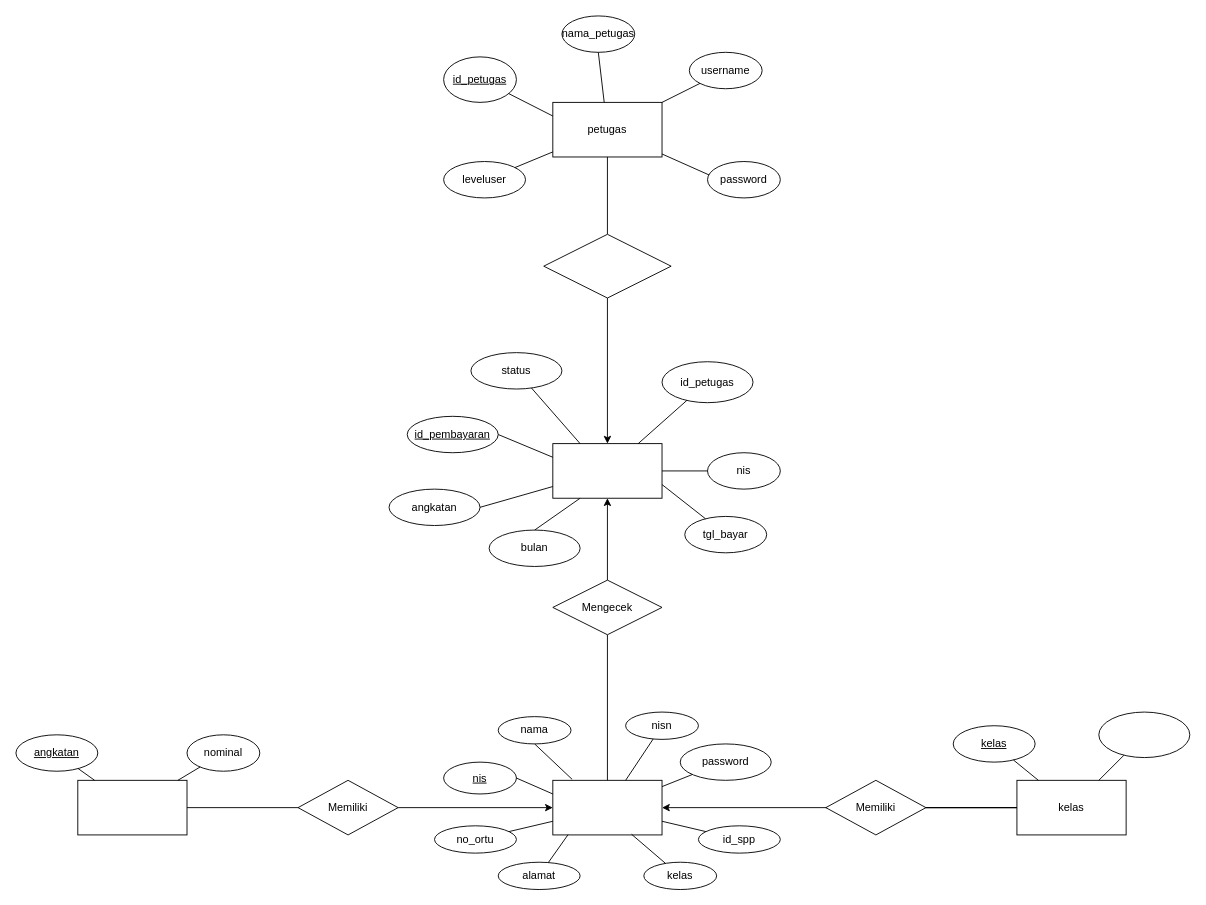
Image size: 1206x905. Some labels were removed from this diagram. The shapes that lost their labels are listed below. From the top down, each one's centre as x and y in pixels, then its label:
At pixel 607 265: "Mengelola".
At pixel 607 470: "pembayaran".
At pixel 1144 734: "keterangan".
At pixel 132 807: "spp".
At pixel 607 807: "siswa".
